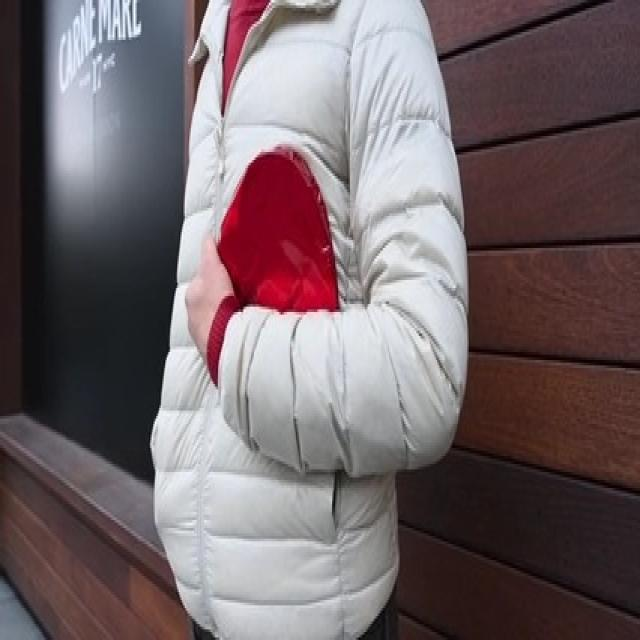Jacket_Wearer: (171, 4, 475, 640)
Person: (161, 0, 483, 640)
